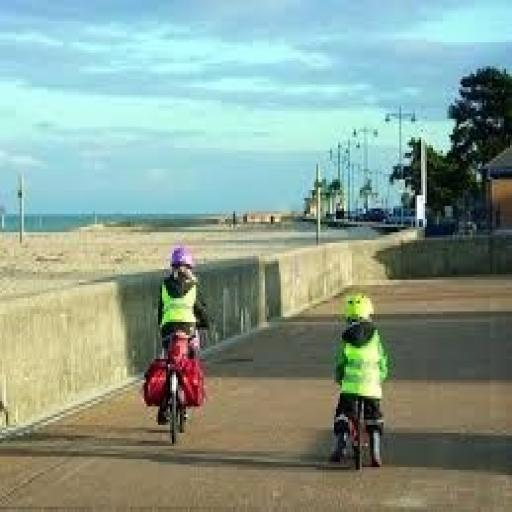cycling: (148, 243, 218, 430), (326, 288, 396, 472)
